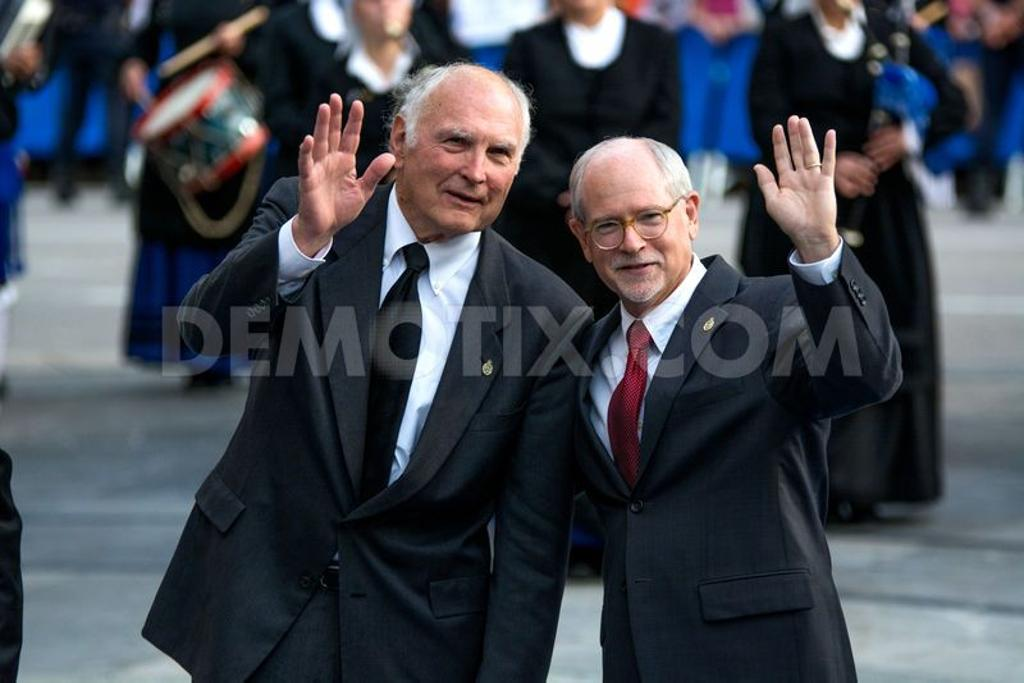face: (406, 70, 524, 228), (582, 152, 690, 300)
